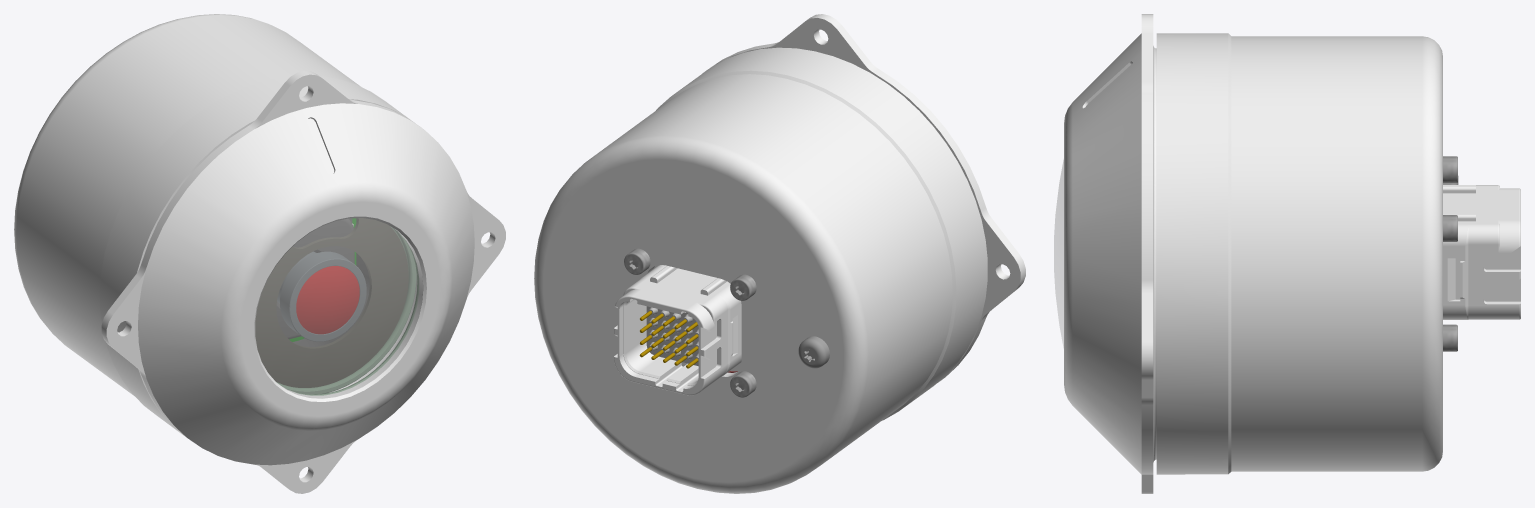
Rendered from camera-4k.glb.
3 renders of one model, left to right at view 1: azimuth 30°, elevation 25°; view 2: azimuth 150°, elevation 25°; view 3: azimuth 270°, elevation 25°, orthographic. The views are drawn at different scales.
Parts seen in each view (by area): view 1: Solid1_35, Solid1_27, Solid1_15, Solid1_18, Solid2, Solid1_17, Solid6_1, Solid1_16, Solid6; view 2: Solid1_27, Solid1_29, Solid1_35, Solid1_114, Solid1_136, Solid1_109, Solid1_31, Solid1_32, Solid1_34; view 3: Solid1_27, Solid1_35, Solid1_29, Solid1_15.
Boxes of the visible parts, x1,y1,x2,y2 form: Solid1_35: (101, 71, 505, 493); Solid1_27: (14, 14, 412, 433); Solid1_15: (255, 218, 422, 398); Solid1_18: (255, 218, 408, 387); Solid2: (277, 251, 366, 341); Solid1_17: (276, 227, 416, 394); Solid6_1: (276, 218, 354, 339); Solid1_16: (287, 239, 419, 395); Solid6: (293, 219, 369, 346); Solid1_27: (534, 47, 987, 493); Solid1_29: (614, 265, 741, 395); Solid1_35: (702, 14, 1025, 382); Solid1_114: (646, 306, 698, 366); Solid1_136: (639, 310, 698, 368); Solid1_109: (798, 336, 829, 368); Solid1_31: (624, 248, 650, 274); Solid1_32: (730, 274, 756, 300); Solid1_34: (730, 371, 756, 397); Solid1_27: (1156, 33, 1442, 474); Solid1_35: (1064, 14, 1156, 493); Solid1_29: (1443, 185, 1520, 319); Solid1_15: (1054, 160, 1063, 347).
Bounding box in the file's own units: 0.0877 × 0.0877 × 0.0783.
Materials: 72 (1 with a texture image).
